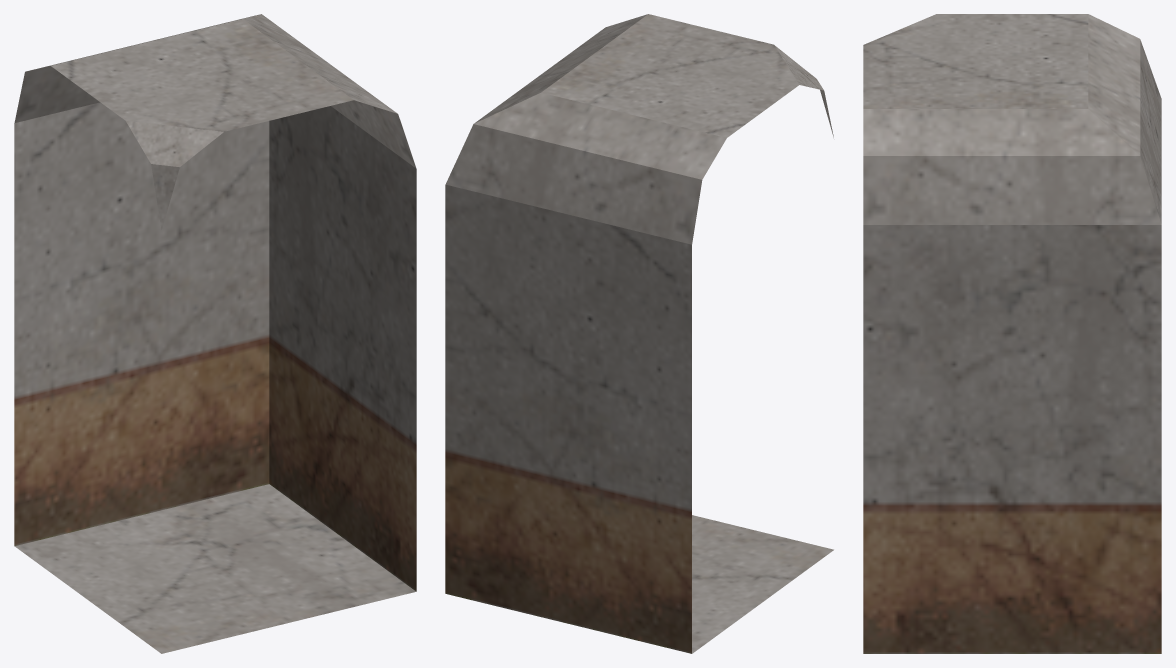
Rendered from MESH_ESCADA03.fbx.
3 views of the same model, side by side, from view 1: azimuth 30°, elevation 25°; view 2: azimuth 150°, elevation 25°; view 3: azimuth 270°, elevation 25° (orthographic). The views are drawn at different scales.
Visible parts, largest first — view 1: MESH_ESCADA03; view 2: MESH_ESCADA03; view 3: MESH_ESCADA03.
Boxes of the visible parts, bbox=[...] form: MESH_ESCADA03: bbox=[14, 14, 416, 653]; MESH_ESCADA03: bbox=[445, 14, 833, 653]; MESH_ESCADA03: bbox=[863, 14, 1161, 653].
Size of the model in its own units: 2 by 3.8 by 2.
